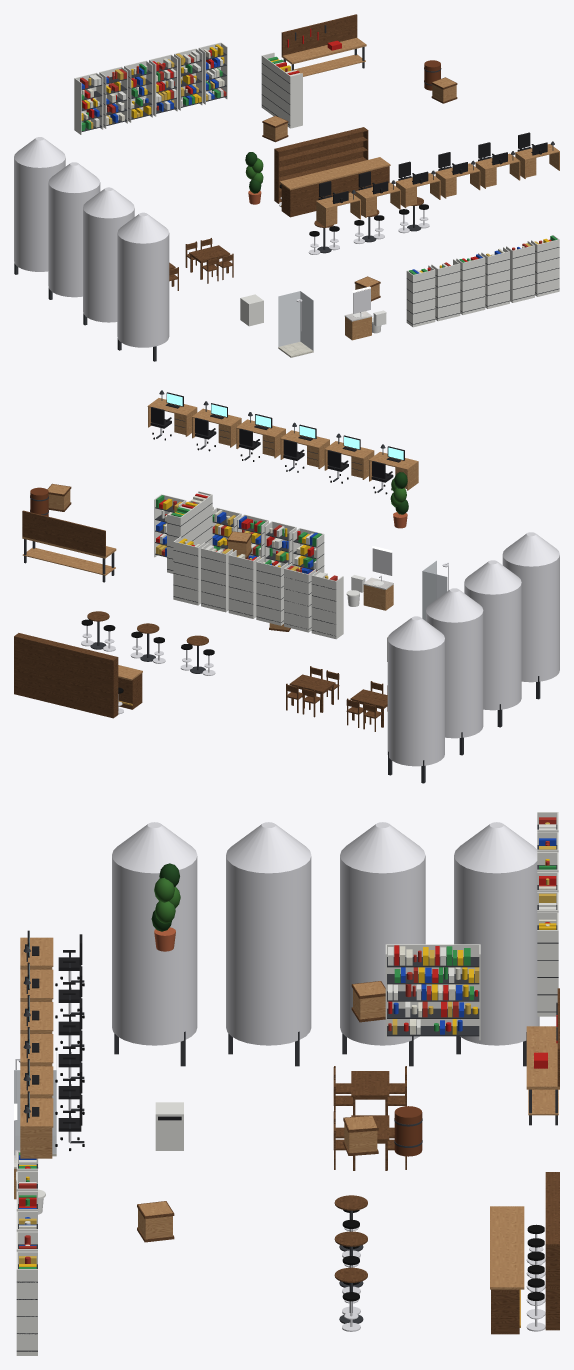
Rendered from i_craft_brewery.gltf.
3 renders of one model, top to bottom at view 1: azimuth 30°, elevation 25°; view 2: azimuth 150°, elevation 25°; view 3: azimuth 270°, elevation 25°, orthographic. The views are drawn at different scales.
Visible parts, largest first — view 1: I_craft_brewery; view 2: I_craft_brewery; view 3: I_craft_brewery.
Part boxes in pixels (x1,y1,x2,y2): I_craft_brewery: (14,14,559,361); I_craft_brewery: (14,390,559,783); I_craft_brewery: (14,812,559,1355).
Bounding box in the file's own units: 16.01 × 6.6 × 11.49.
Materials: 27 (5 with a texture image).
